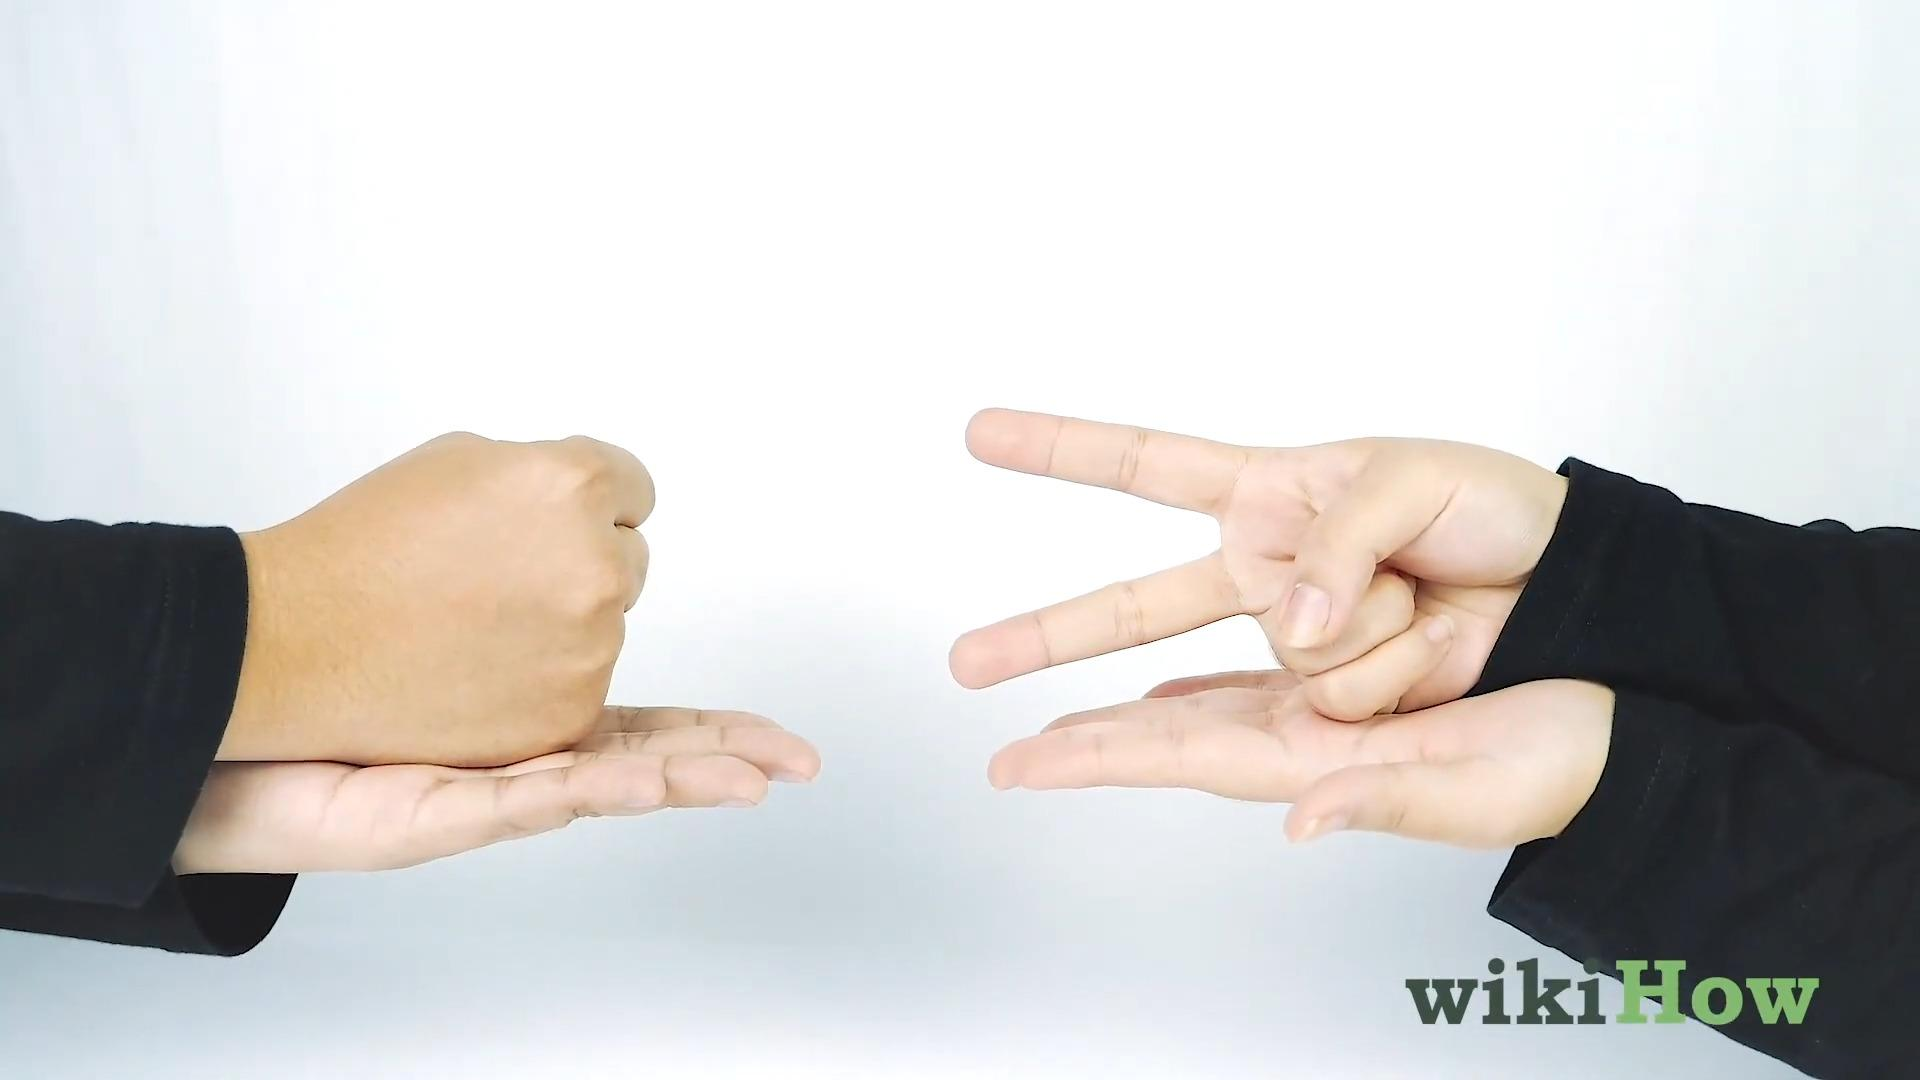Rock: (251, 427, 657, 767)
Scissors: (948, 400, 1551, 733)
